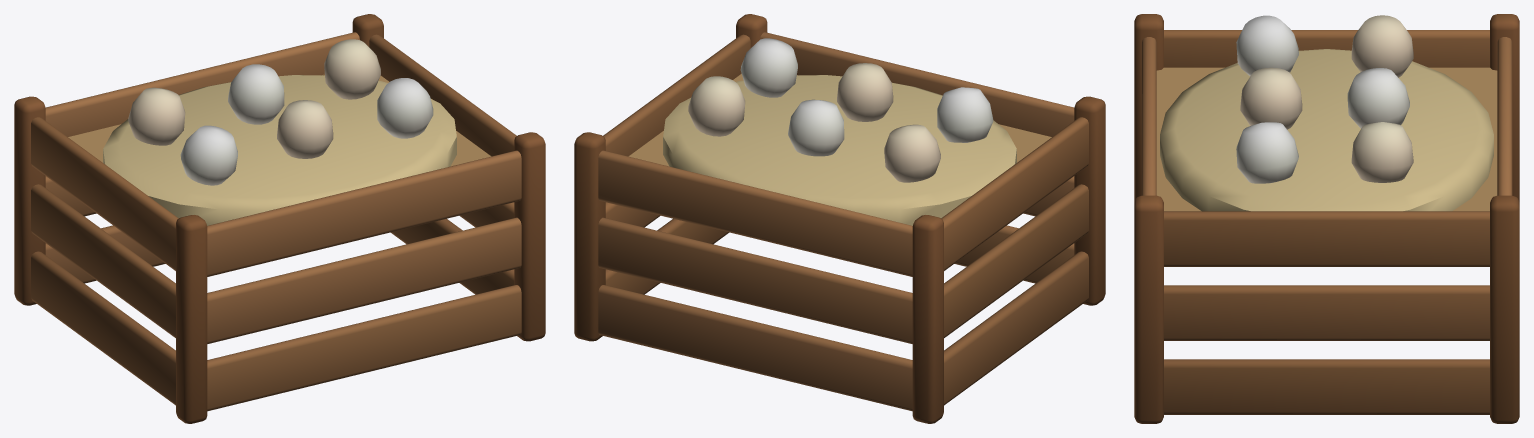
File: farm-crate.glb
3 renders of one model, left to right at view 1: azimuth 30°, elevation 25°; view 2: azimuth 150°, elevation 25°; view 3: azimuth 270°, elevation 25°, orthographic. The views are drawn at different scales.
Parts seen in each view (by area): view 1: farm-crate; view 2: farm-crate; view 3: farm-crate.
Part boxes in pixels (x1,y1,x2,y2): farm-crate: (14, 14, 545, 423); farm-crate: (574, 14, 1105, 423); farm-crate: (1134, 14, 1519, 423).
Bounding box in the file's own units: 1.24 × 0.77 × 1.04.
